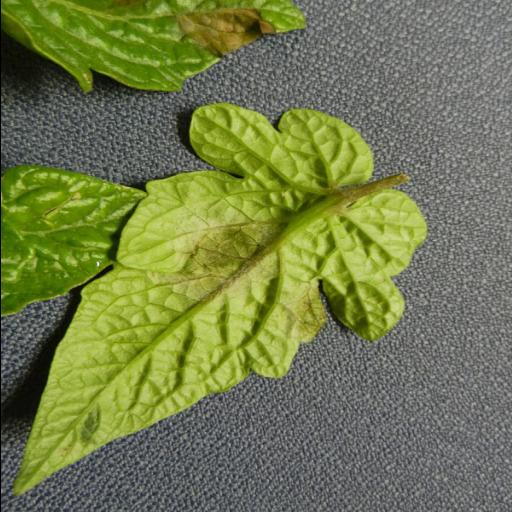Late Blight: (18, 102, 428, 492), (0, 0, 310, 93)
